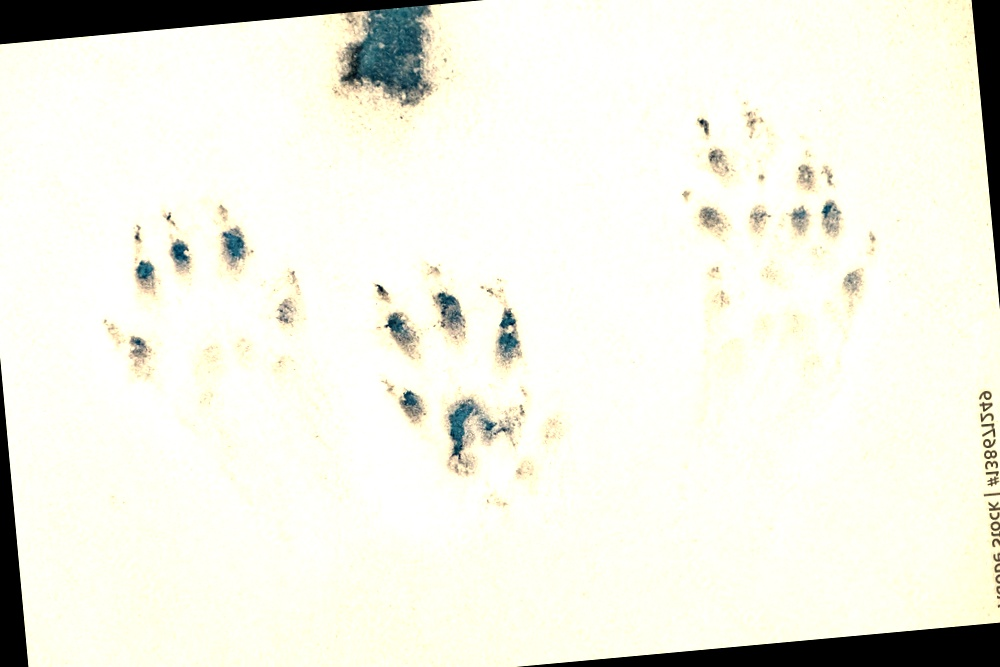ecureuil: (662, 150, 904, 535), (92, 95, 331, 478), (416, 225, 632, 537)
